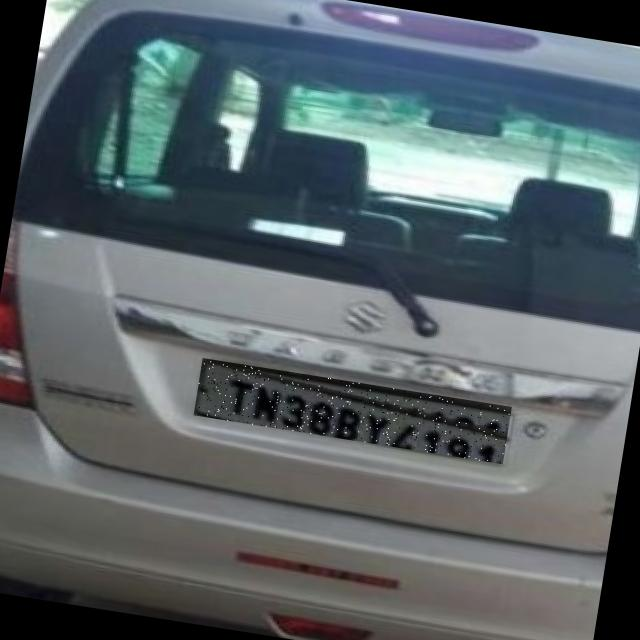Plate: (195, 359, 513, 465)
